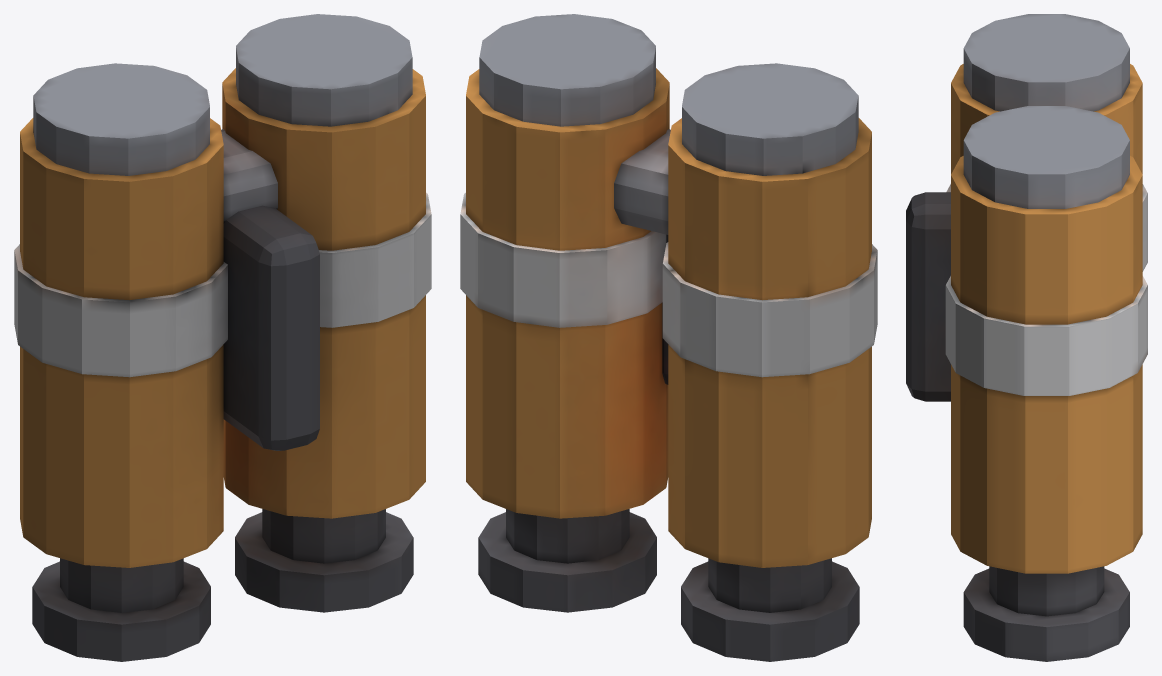
File: pickup_jet.glb
The picture shows the model from 3 angles, left to right: view 1: azimuth 30°, elevation 25°; view 2: azimuth 150°, elevation 25°; view 3: azimuth 270°, elevation 25°; orthographic projection. The views are drawn at different scales.
Visible parts, largest first — view 1: pickup_jet; view 2: pickup_jet; view 3: pickup_jet.
Boxes of the visible parts, box(x1,y1,x2,y2) form: pickup_jet: box(14, 14, 431, 661); pickup_jet: box(460, 14, 877, 661); pickup_jet: box(906, 14, 1147, 661).
Size of the model in its own units: 0.6481 by 0.84 by 0.378.
4 materials, 4 textured.
